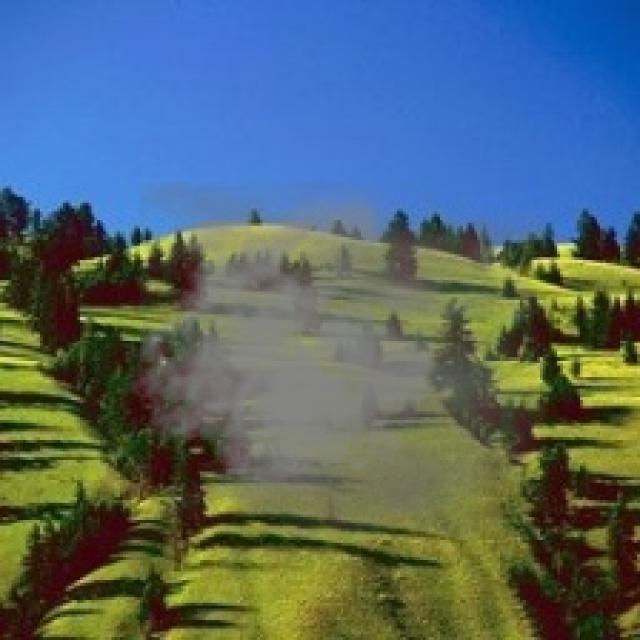smoke: (125, 180, 546, 540)
